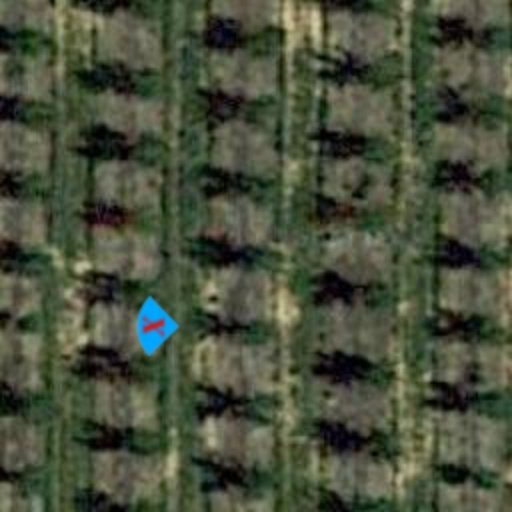quarter_circle: (124, 296, 184, 356)
